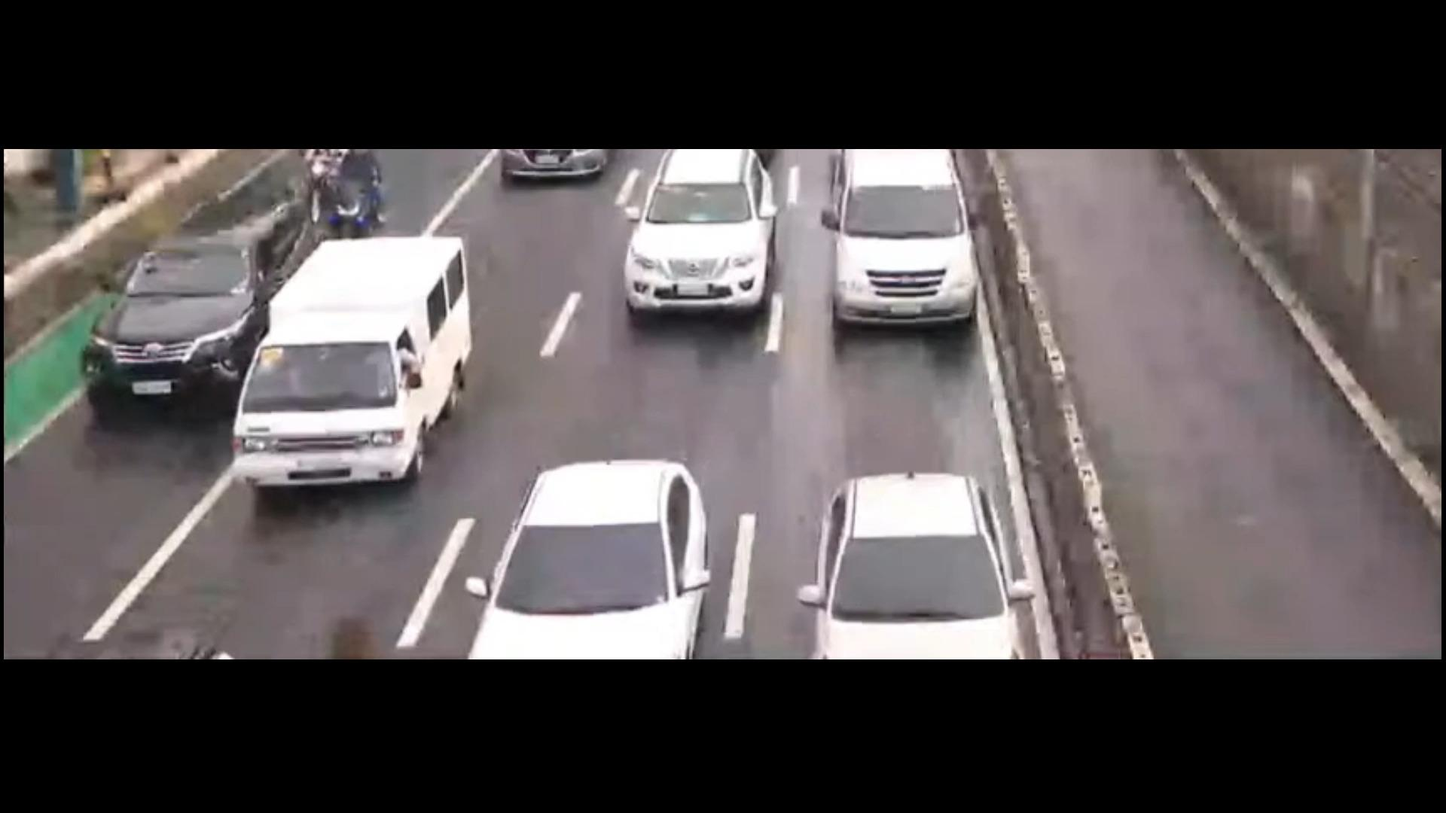Motorcycle: (326, 145, 388, 241)
Multicab: (215, 209, 497, 485)
SUV: (57, 187, 305, 408), (614, 149, 795, 328)
Sedan: (450, 431, 744, 661), (799, 465, 1036, 655)
Van: (802, 145, 987, 345)
